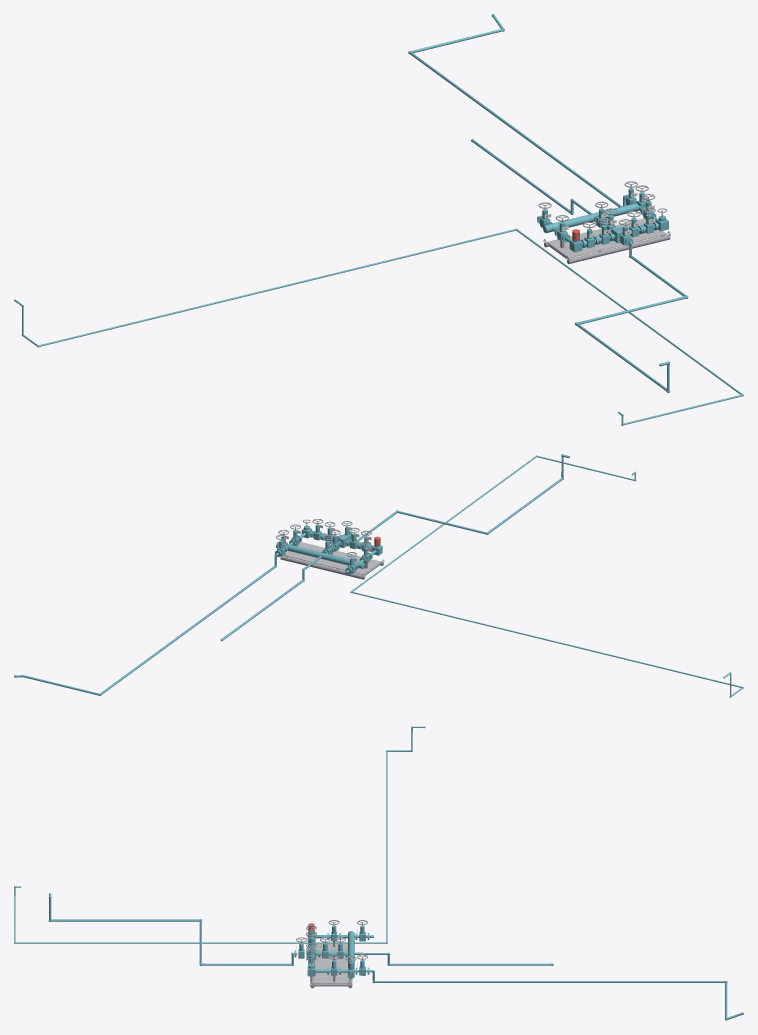
File: sk575_manifold.glb
3 views of the same model, one above another, from view 1: azimuth 30°, elevation 25°; view 2: azimuth 150°, elevation 25°; view 3: azimuth 270°, elevation 25° (orthographic). The views are drawn at different scales.
Parts seen in each view (by area): view 1: sk575_manifold_azul, sk575_manifold_acero_oscuro, sk575_manifold_grating; view 2: sk575_manifold_azul, sk575_manifold_acero_oscuro, sk575_manifold_grating; view 3: sk575_manifold_azul, sk575_manifold_grating, sk575_manifold_acero_oscuro.
Boxes of the visible parts, x1,y1,x2,y2 form: sk575_manifold_azul: (14,14,743,425); sk575_manifold_acero_oscuro: (538,181,670,264); sk575_manifold_grating: (547,218,666,258); sk575_manifold_azul: (14,454,743,697); sk575_manifold_acero_oscuro: (276,519,383,579); sk575_manifold_grating: (284,542,381,574); sk575_manifold_azul: (14,726,743,1020); sk575_manifold_grating: (313,944,348,983); sk575_manifold_acero_oscuro: (296,920,367,988).
Bounding box in the file's own units: 25.44 × 1.26 × 29.04.
